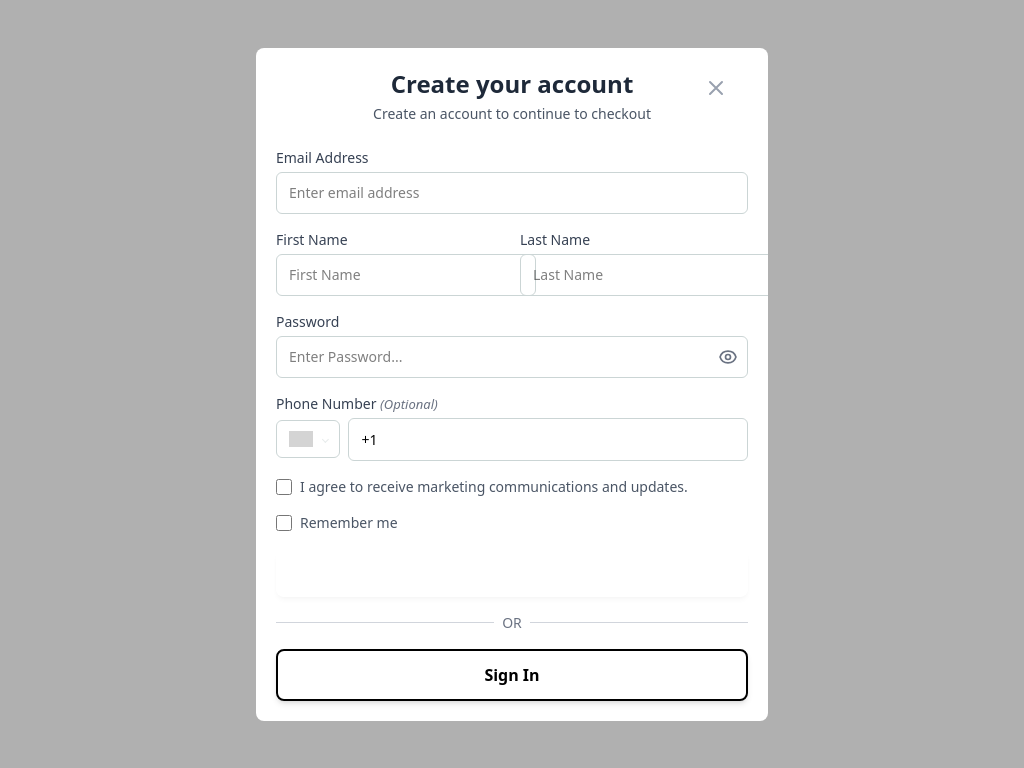
Test case: CreateAccountForm Component › should use fallback banner message when email check throws non-Error
The width and height of the screenshot is (1024, 768).
Type "fallback-check@example.com" into the field with placeholder "Enter email address" at (512, 192), box top-left (276, 172), bottom-right (748, 214)
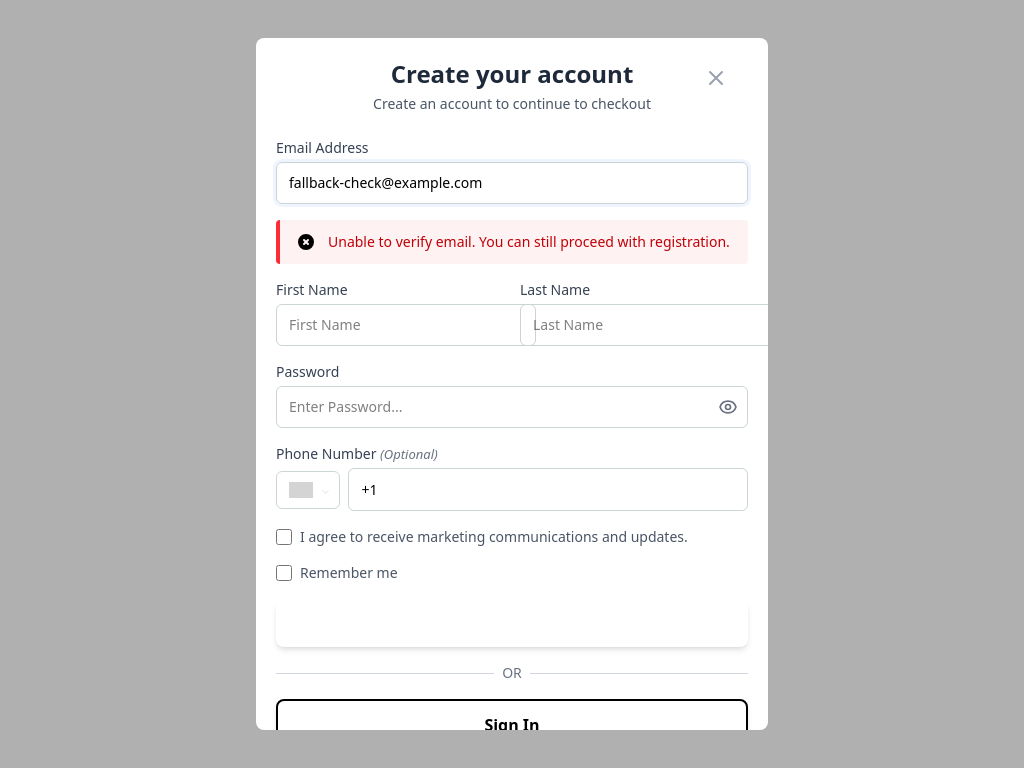
Expected: the text "Unable to verify email. You can still proceed with registration." is shown, top-left (328, 232), bottom-right (730, 252)
